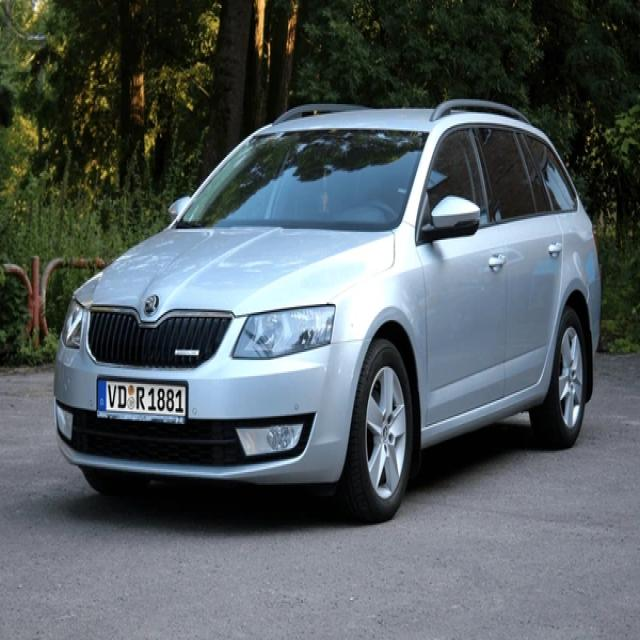skoda: (142, 290, 161, 318)
